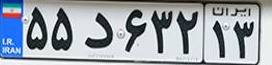character: (82, 10, 117, 53), (120, 5, 148, 57), (49, 3, 77, 54), (24, 3, 50, 53), (149, 8, 175, 58), (175, 6, 199, 58), (233, 16, 255, 61), (209, 16, 228, 61)
